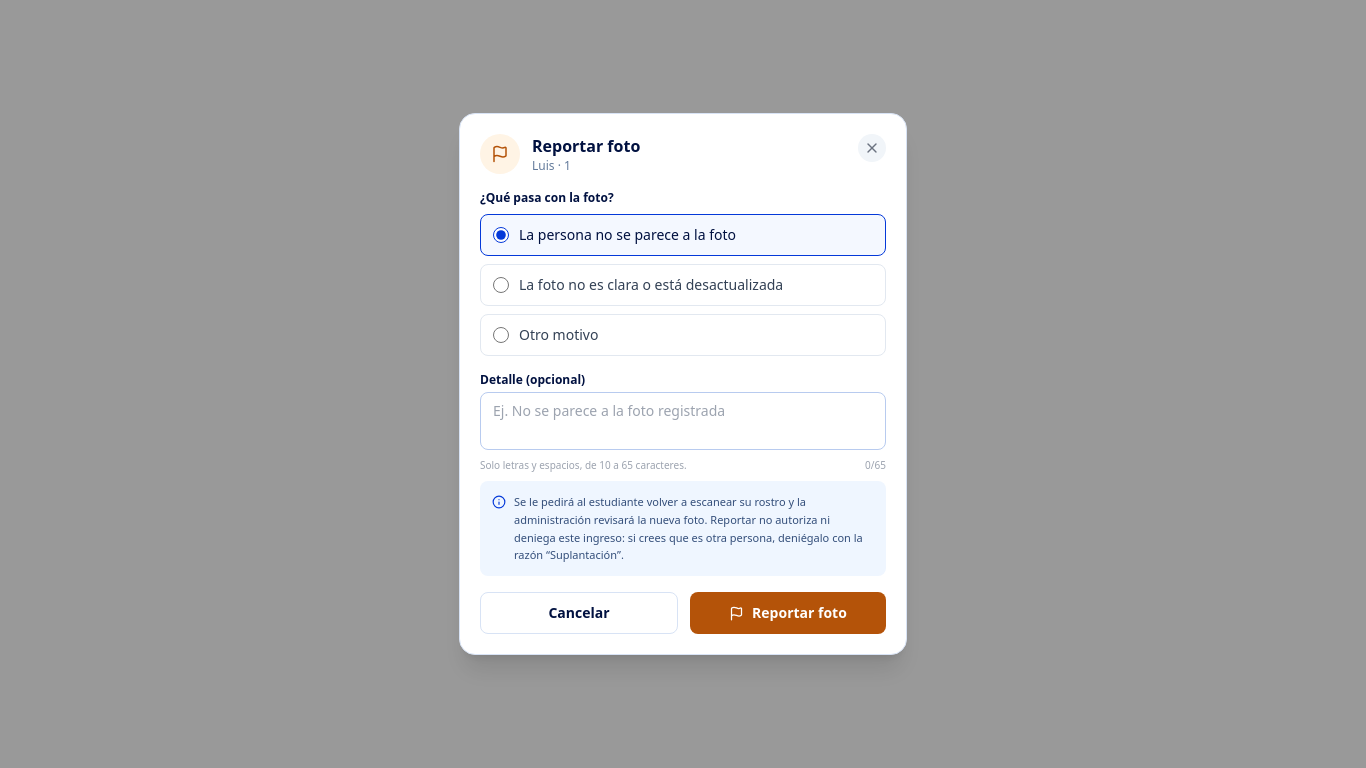
Test case: ReportarFotoModal (CTA-02) › muestra el error del servidor y no cierra
Click the button "Reportar foto".
click(788, 613)  # box left=690, top=592, right=886, bottom=634
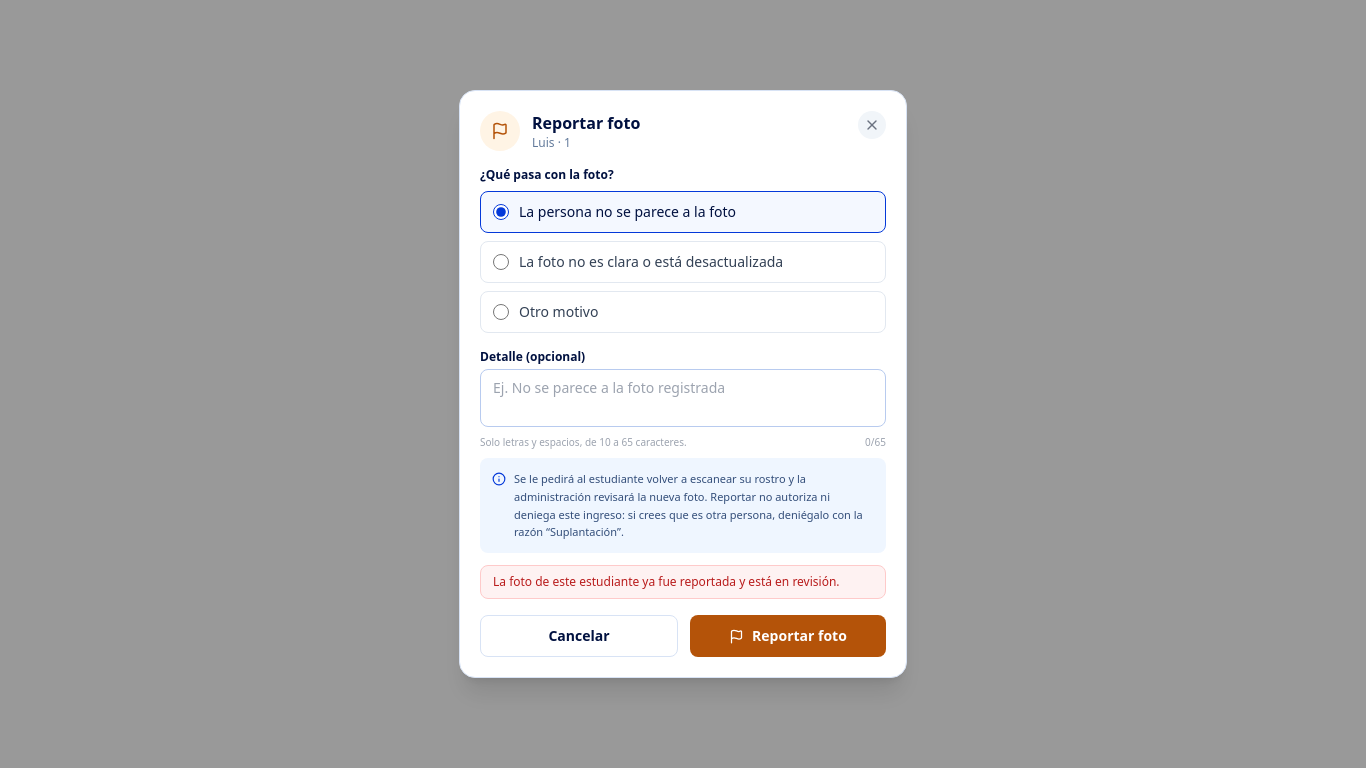
Expected: the message shows "ya fue reportada", left=493, top=573, right=840, bottom=590
